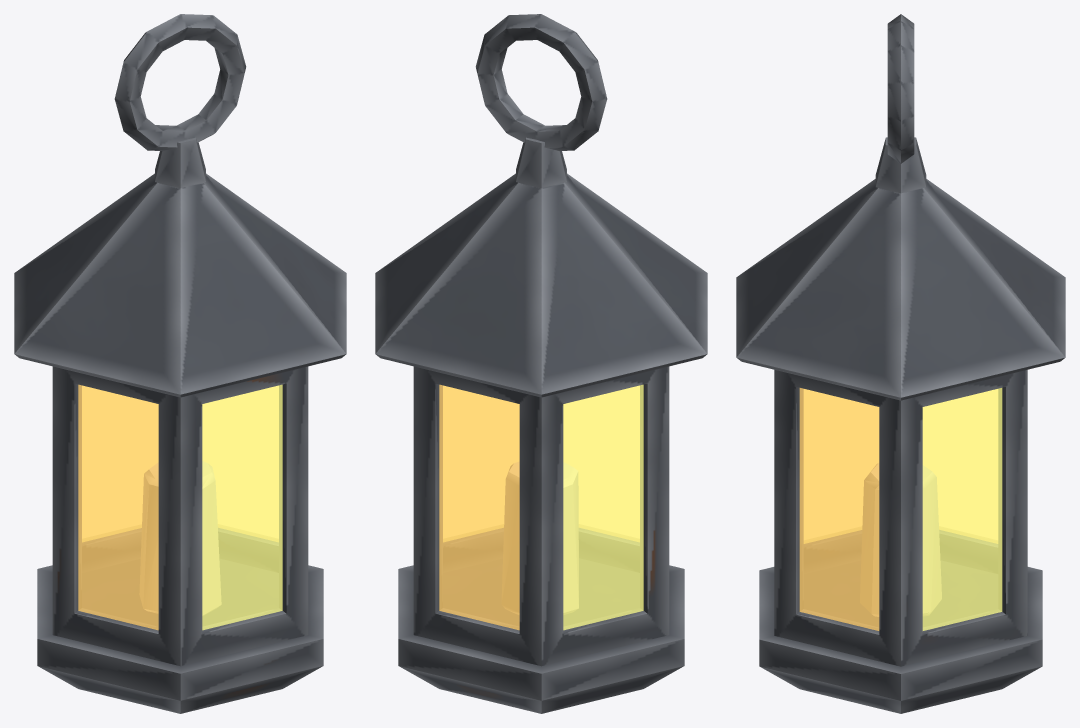
Rendered from iron_lantern.glb.
3 renders of one model, left to right at view 1: azimuth 30°, elevation 25°; view 2: azimuth 150°, elevation 25°; view 3: azimuth 270°, elevation 25°, orthographic.
Visible parts, largest first — view 1: roof, frame, glass, base, ring, candle, knob; view 2: roof, frame, glass, base, ring, candle, knob; view 3: roof, frame, glass, base, candle, ring, knob.
Boxes of the visible parts, bbox=[...] form: roof: bbox=[14, 173, 346, 397]; frame: bbox=[52, 366, 308, 666]; glass: bbox=[78, 384, 282, 630]; base: bbox=[37, 559, 323, 713]; ring: bbox=[114, 14, 246, 150]; candle: bbox=[139, 461, 221, 615]; knob: bbox=[155, 137, 205, 188]; roof: bbox=[375, 173, 707, 397]; frame: bbox=[413, 366, 669, 666]; glass: bbox=[439, 384, 643, 630]; base: bbox=[398, 558, 684, 713]; ring: bbox=[475, 14, 607, 150]; candle: bbox=[502, 462, 578, 614]; knob: bbox=[516, 137, 566, 188]; roof: bbox=[736, 179, 1065, 400]; frame: bbox=[774, 370, 1027, 666]; glass: bbox=[799, 388, 1002, 630]; base: bbox=[759, 561, 1042, 713]; candle: bbox=[860, 463, 941, 616]; ring: bbox=[887, 14, 914, 163]; knob: bbox=[875, 137, 926, 193].
Size of the model in its own units: 0.26 by 0.486 by 0.2252.
4 materials, 4 textured.
